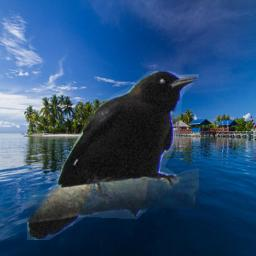Crow: (27, 71, 199, 240)
